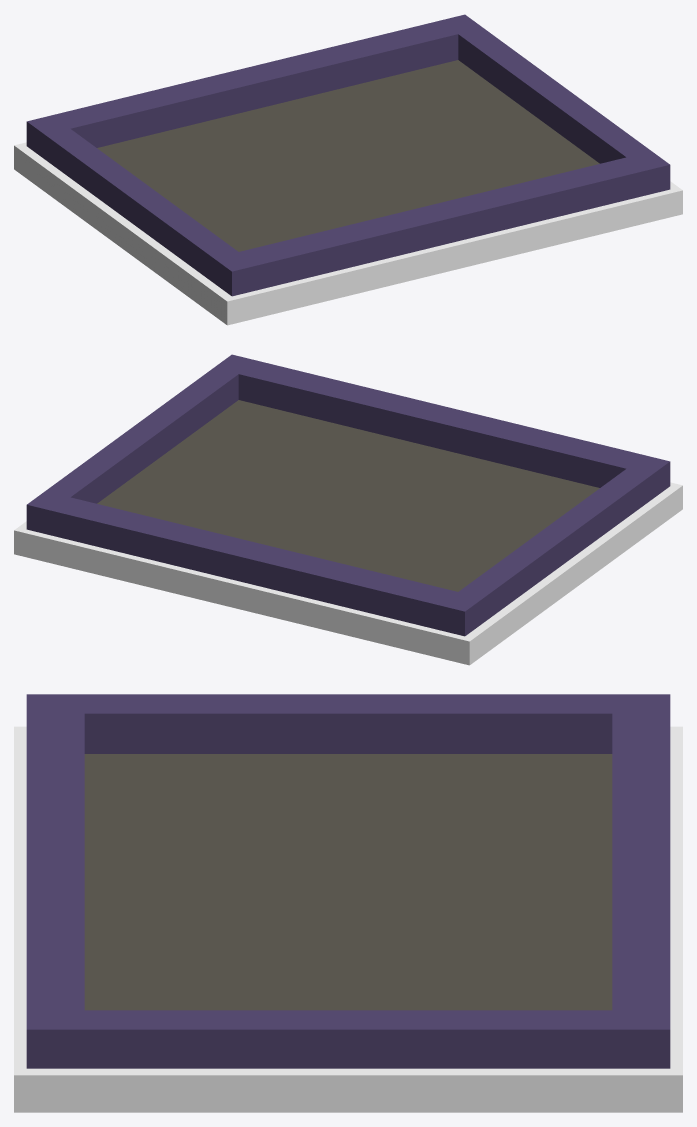
The model's file is CityBuildingB_03_roof.fbx.
3 views of the same model, one above another, from view 1: azimuth 30°, elevation 25°; view 2: azimuth 150°, elevation 25°; view 3: azimuth 270°, elevation 25° (orthographic). The views are drawn at different scales.
Visible parts, largest first — view 1: CityBuildingB_03_roof; view 2: CityBuildingB_03_roof; view 3: CityBuildingB_03_roof.
Part boxes in pixels (left/top/right/bottom): CityBuildingB_03_roof: left=14, top=14, right=682, bottom=325; CityBuildingB_03_roof: left=14, top=354, right=682, bottom=665; CityBuildingB_03_roof: left=14, top=694, right=682, bottom=1112.
Size of the model in its own units: 0.6971 by 0.0713 by 0.5653.
